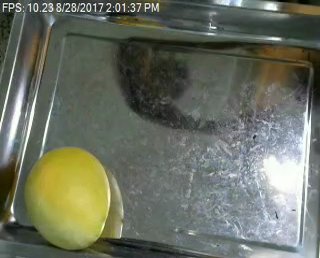Mango: (22, 147, 109, 249)
